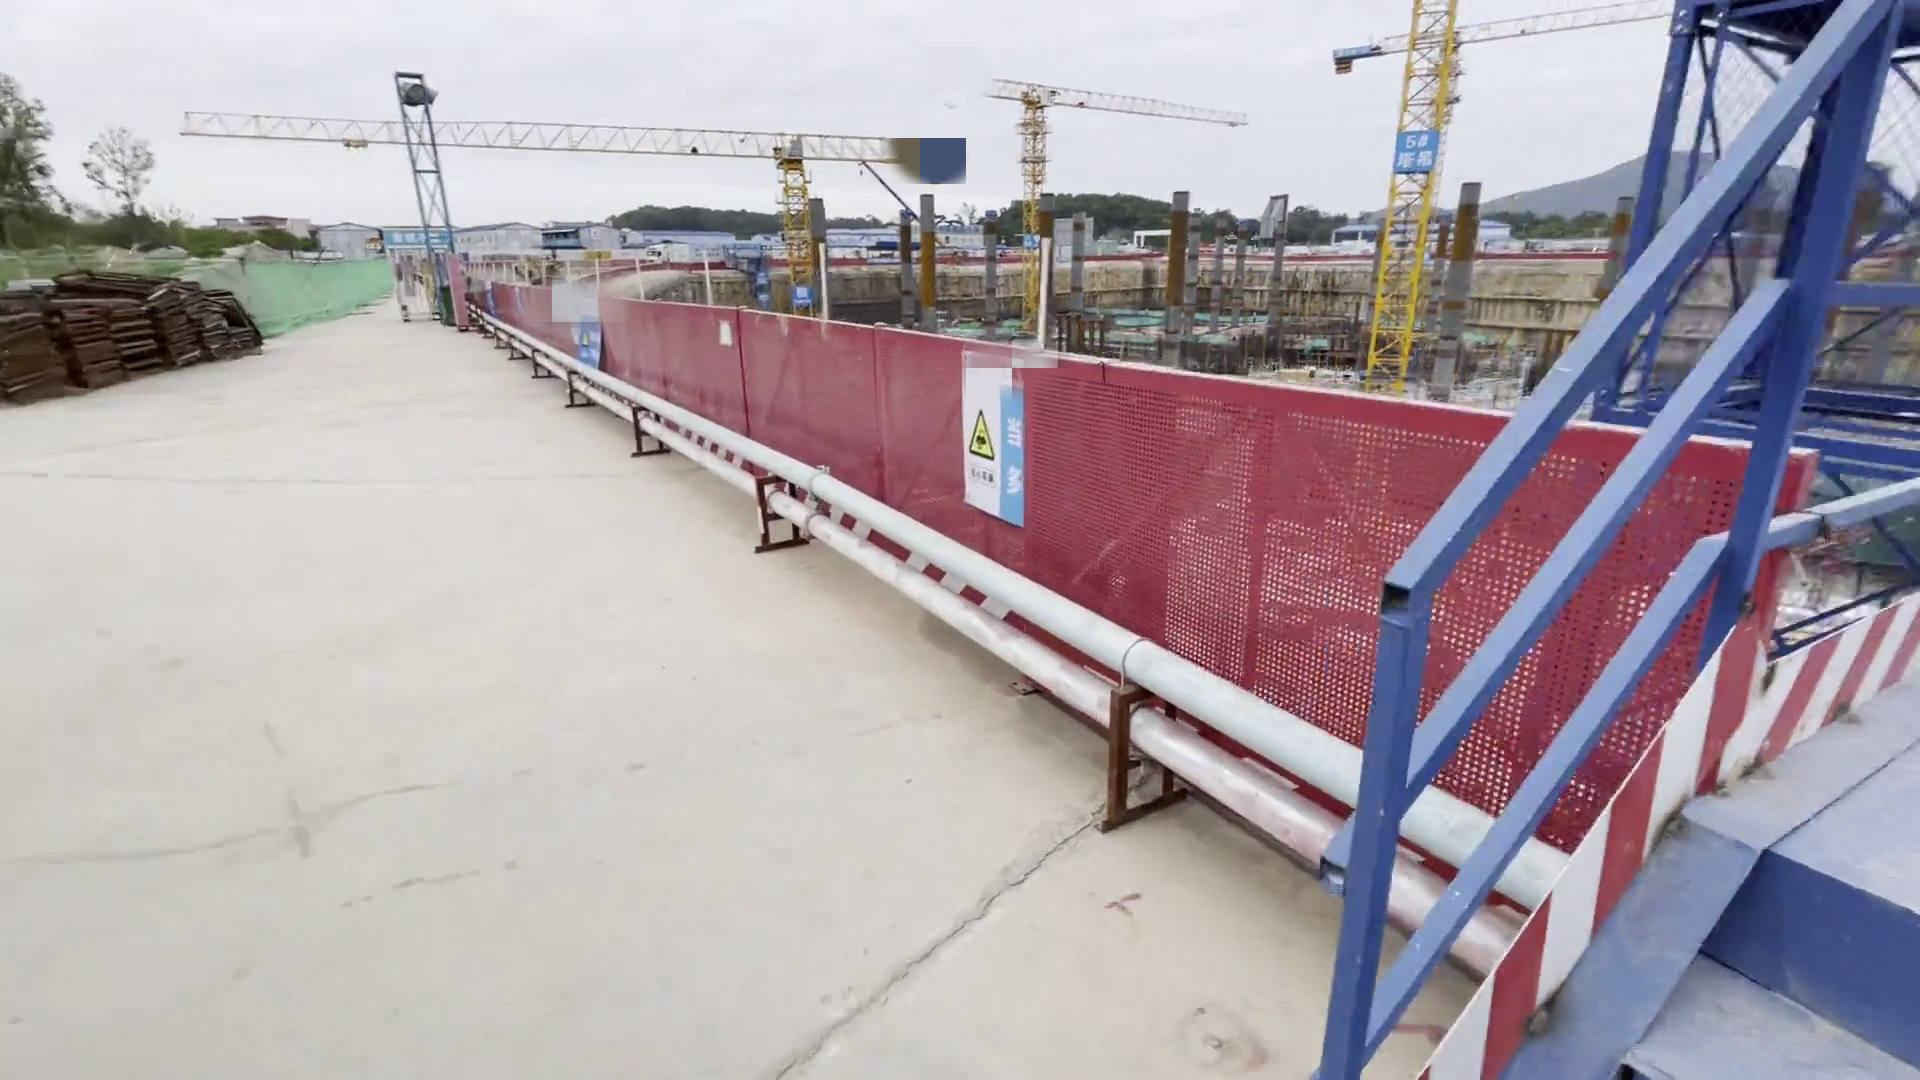fence: (448, 280, 1555, 849)
slogan: (963, 349, 1034, 541), (567, 287, 608, 378), (384, 225, 463, 260), (1394, 123, 1436, 174), (790, 281, 814, 309), (750, 266, 771, 290), (1023, 231, 1040, 251)
